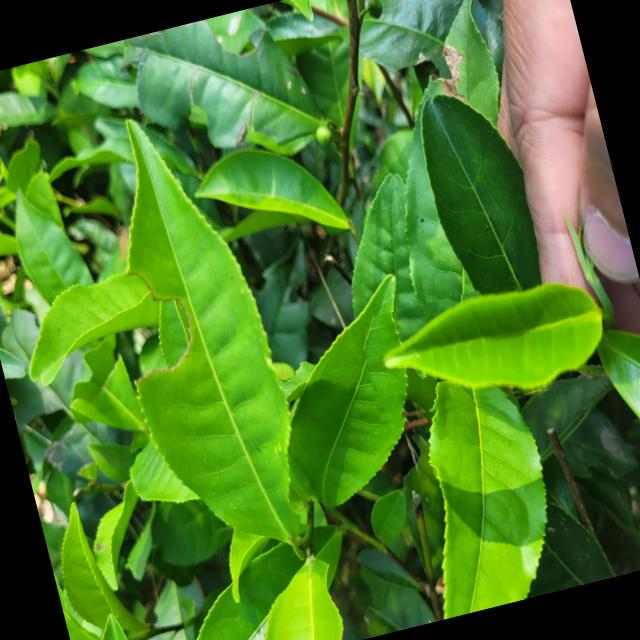Catagory A(1-2 days): (356, 262, 620, 432)
